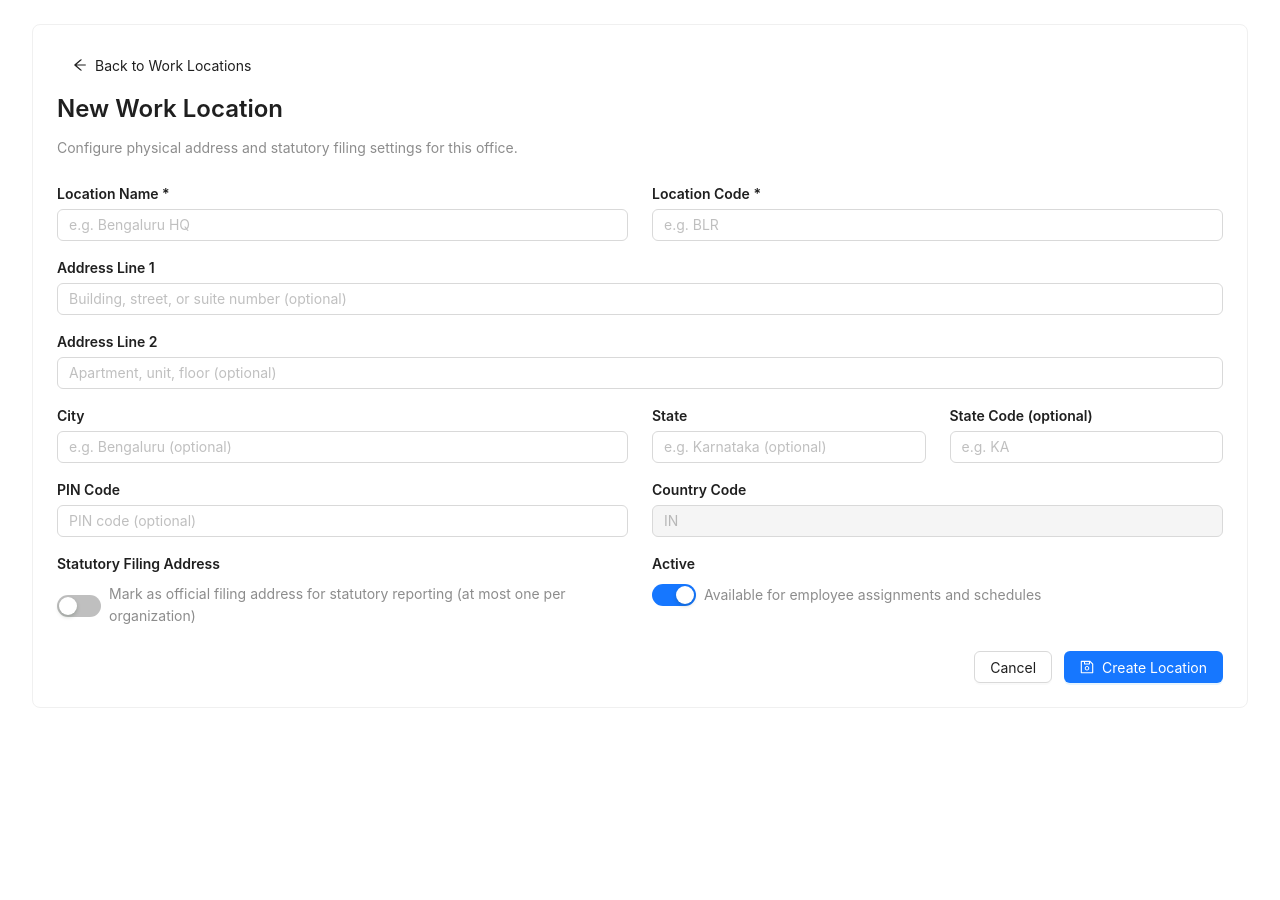
Scenario: WorkLocationForm component › blocks submission when required name and code are missing
Click the button with id "btn-submit-location" at (1144, 667), box [1064, 651, 1223, 683]
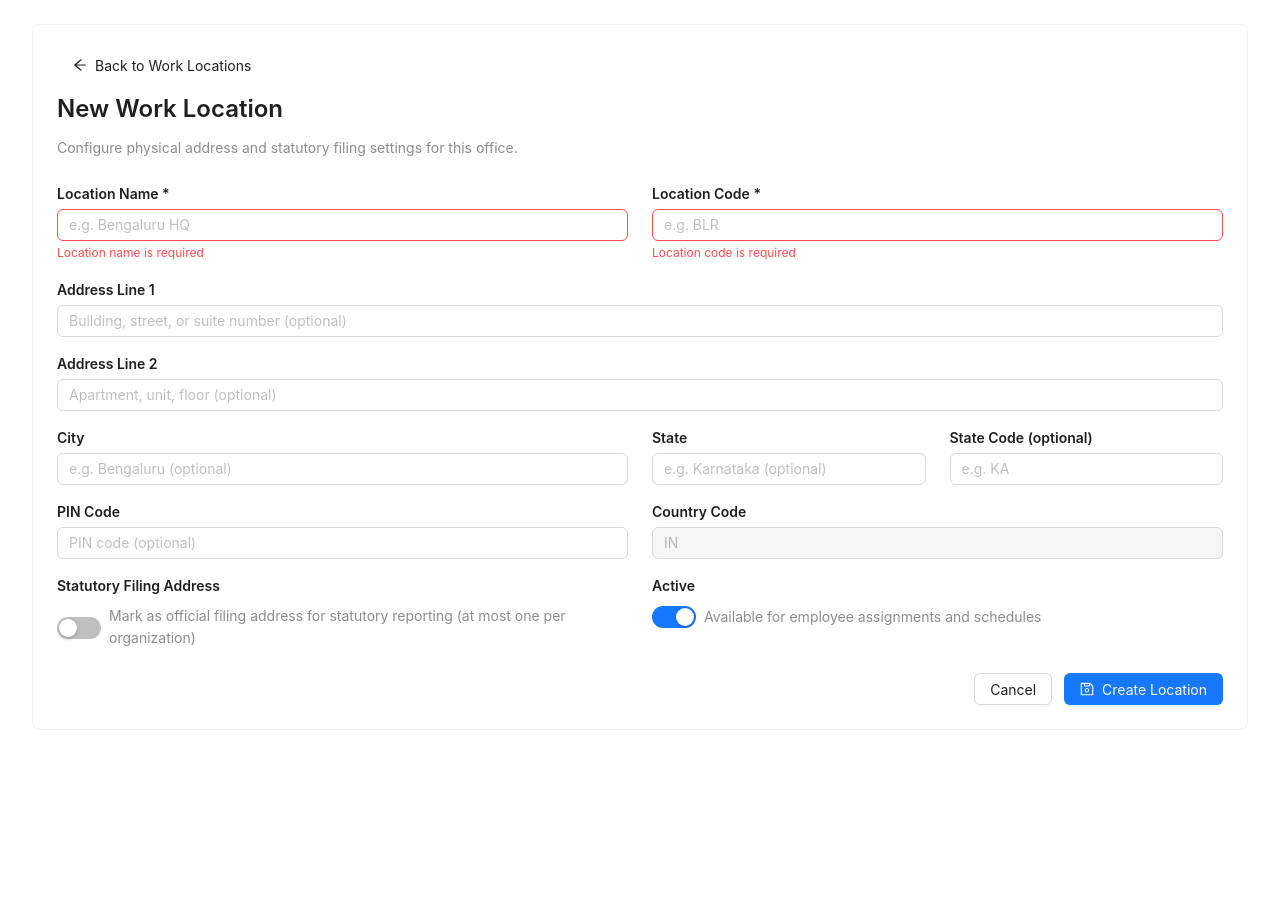
Result: the text "Location name is required" is shown at [57, 245, 204, 260]
Result: the text "Location code is required" is shown at [652, 245, 796, 260]
